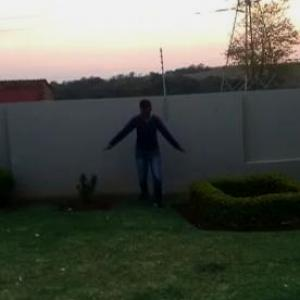land: (104, 97, 189, 215)
